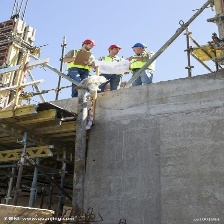helmet: (83, 39, 95, 45), (133, 43, 146, 48), (108, 45, 121, 50)
person: (68, 38, 96, 89), (99, 45, 126, 91), (129, 44, 155, 86)
